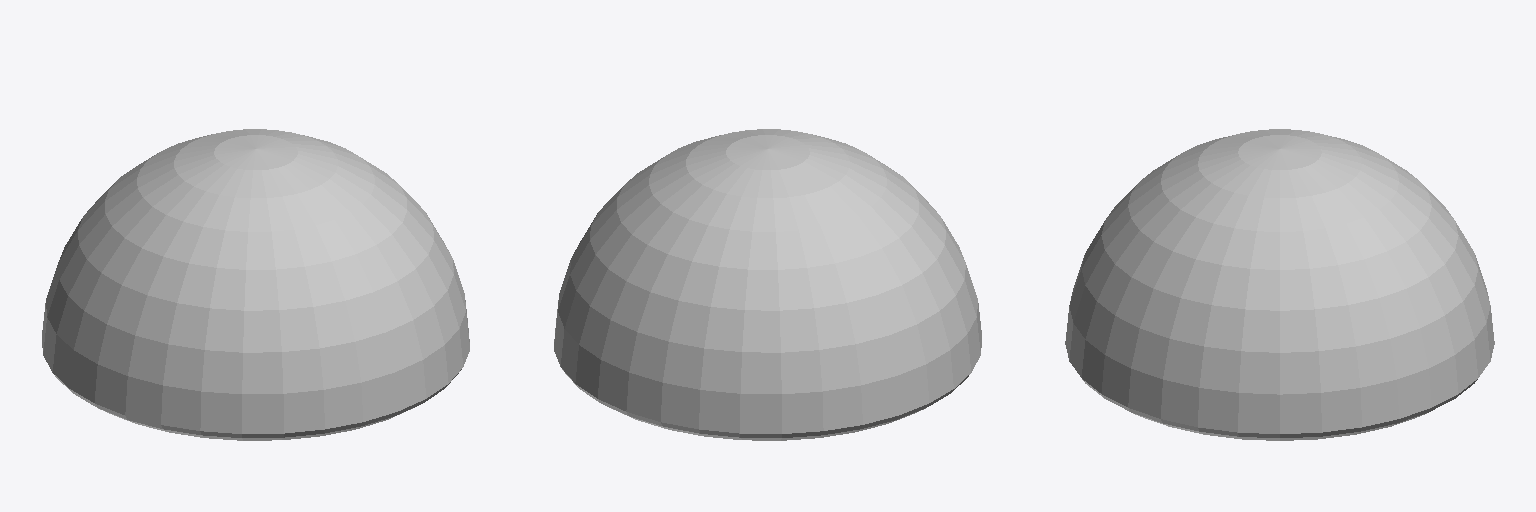
File: Half Sphere.obj
The picture shows the model from 3 angles: view 1: azimuth 30°, elevation 25°; view 2: azimuth 150°, elevation 25°; view 3: azimuth 270°, elevation 25°; orthographic projection.
Visible parts, largest first — view 1: podiwodila_Sphere; view 2: podiwodila_Sphere; view 3: podiwodila_Sphere.
Boxes of the visible parts, box(x1,y1,x2,y2) form: podiwodila_Sphere: box(42, 129, 469, 440); podiwodila_Sphere: box(554, 129, 981, 440); podiwodila_Sphere: box(1065, 129, 1494, 440).
Size of the model in its own units: 2 by 1.1 by 2.